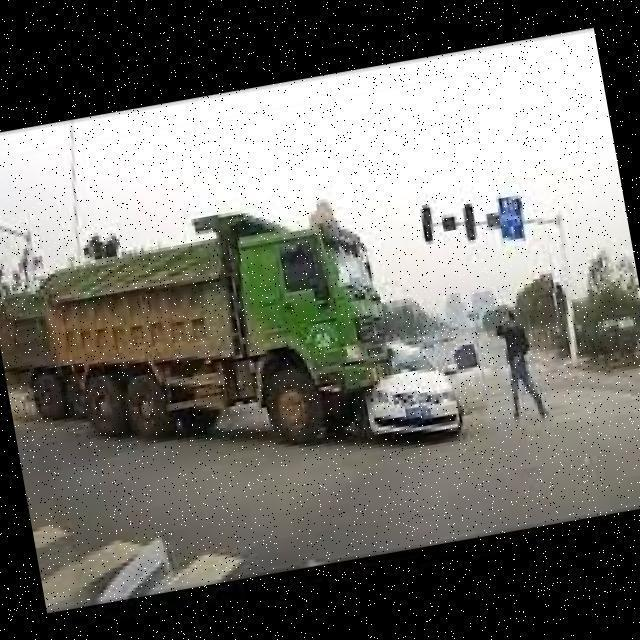accident: (307, 250, 494, 472)
